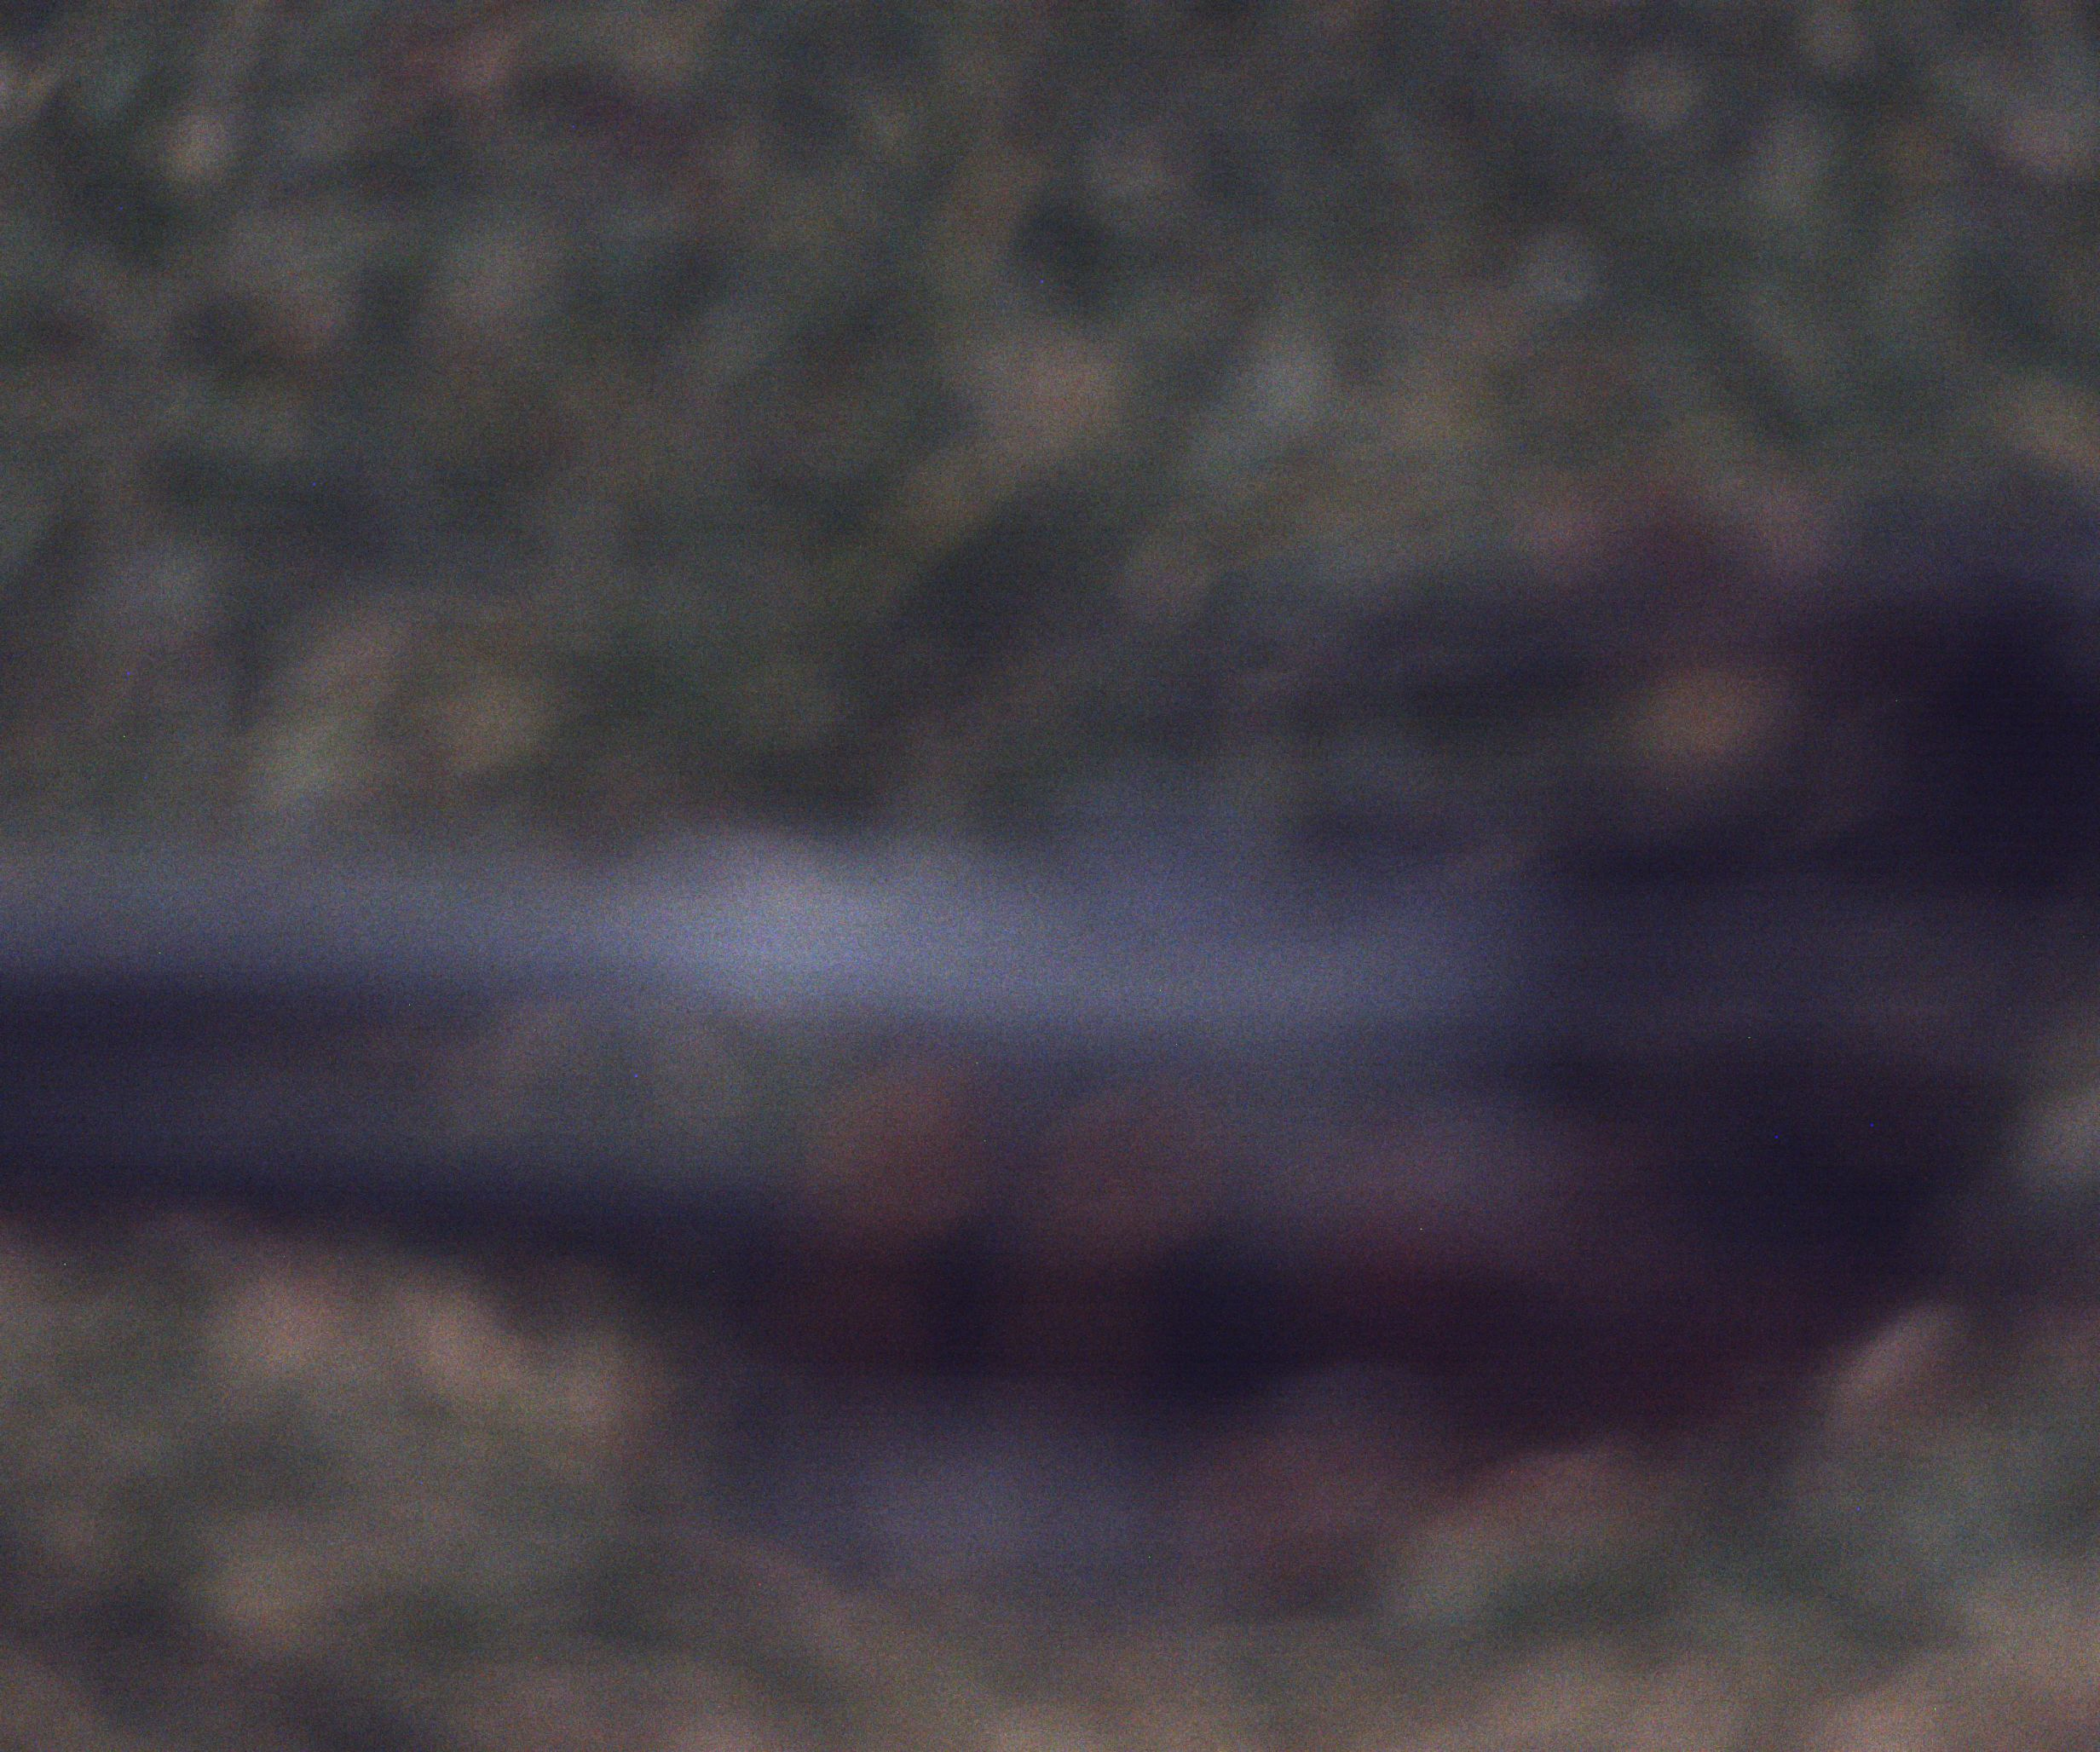Drohne: (105, 493, 2100, 1602)
